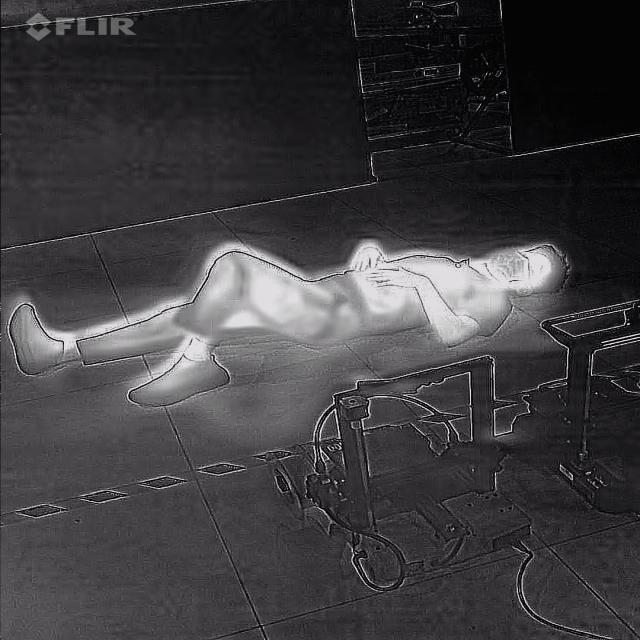Victim: (2, 235, 574, 411)
